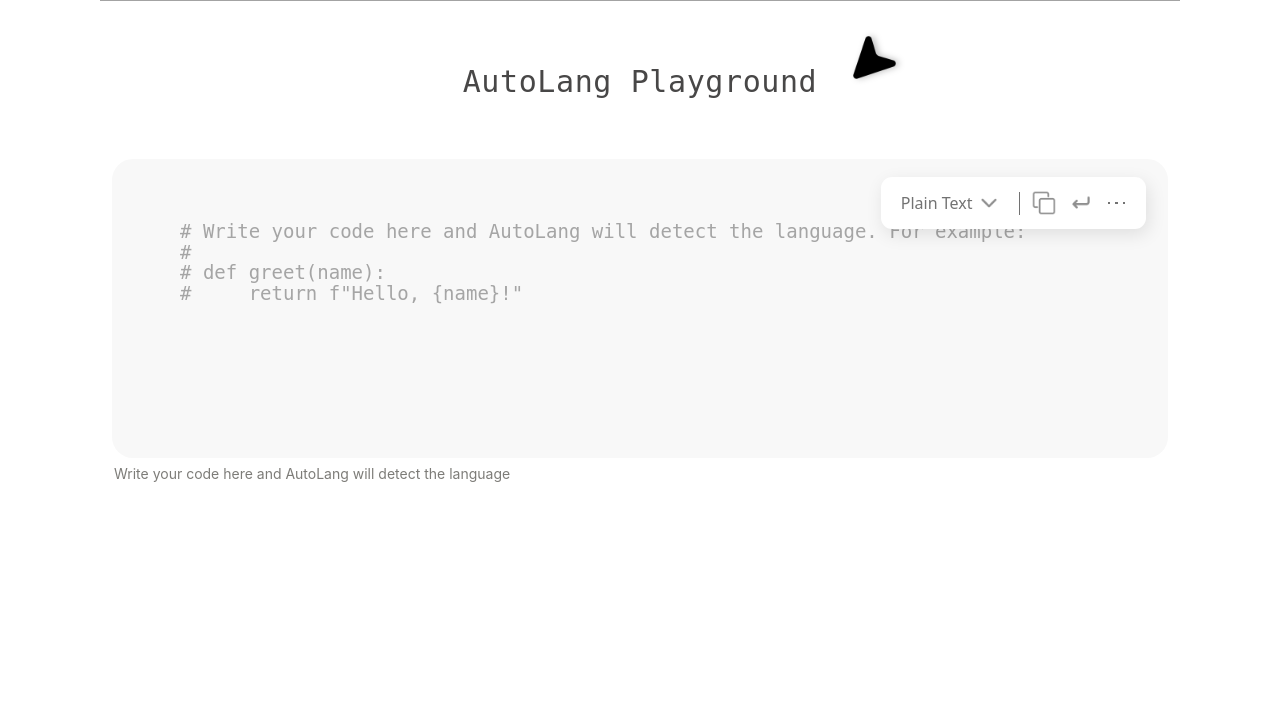
it: Playground language menu › picks the first match with Enter and closes with Escape
Click the button with aria-label "Language:" at (951, 203), box [895,187,1008,219]
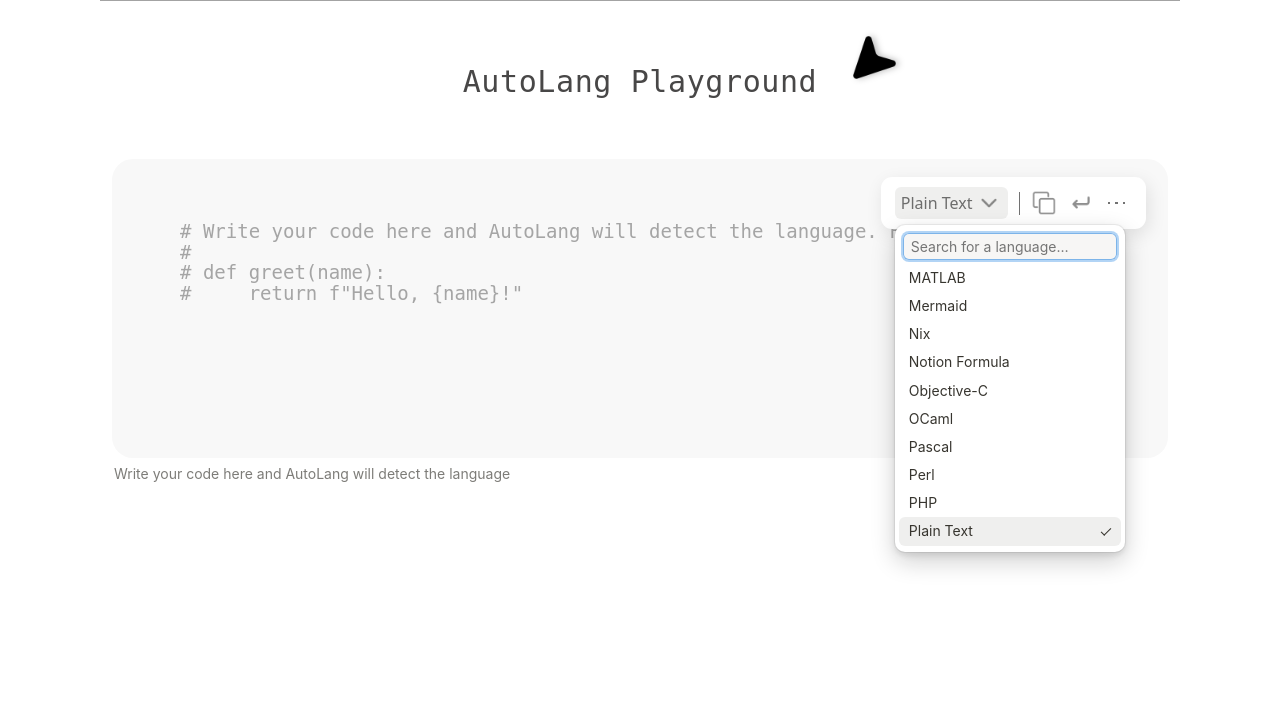
Type "rust" into the search field named "search languages" at (1010, 246), box [903,233,1117,260]
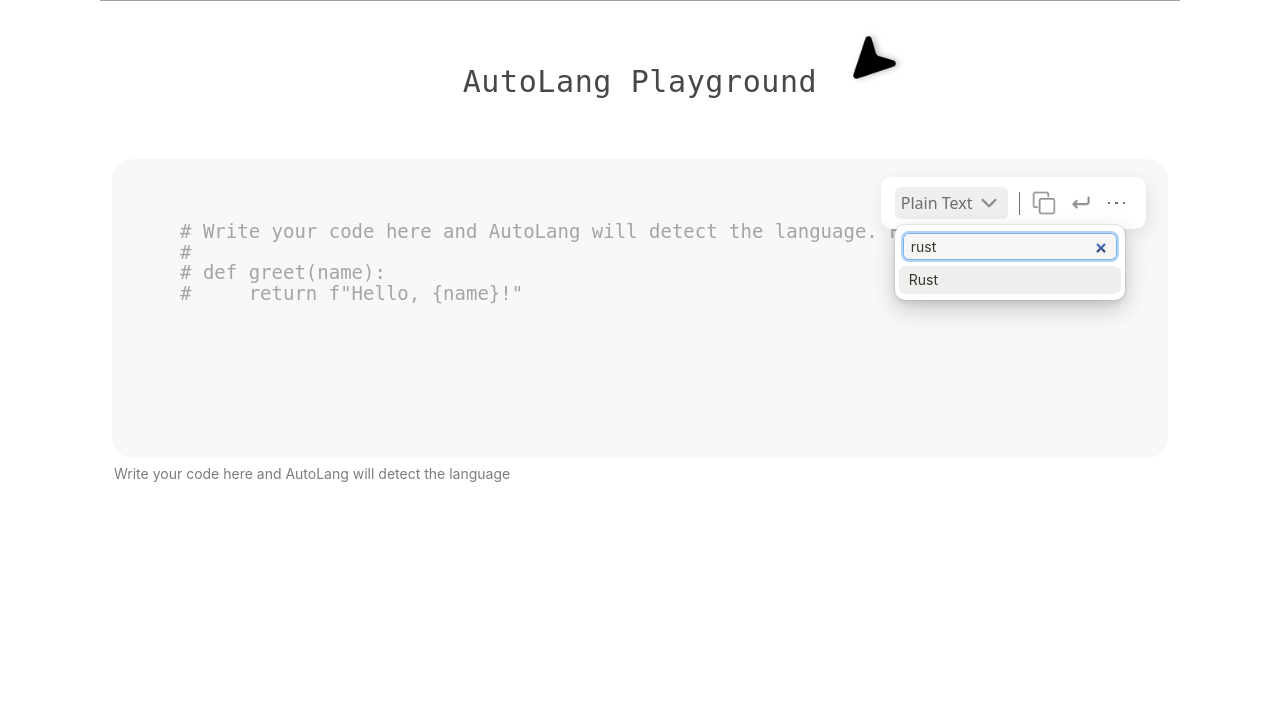
Press Enter in the search field named "search languages", box [903,233,1117,260]
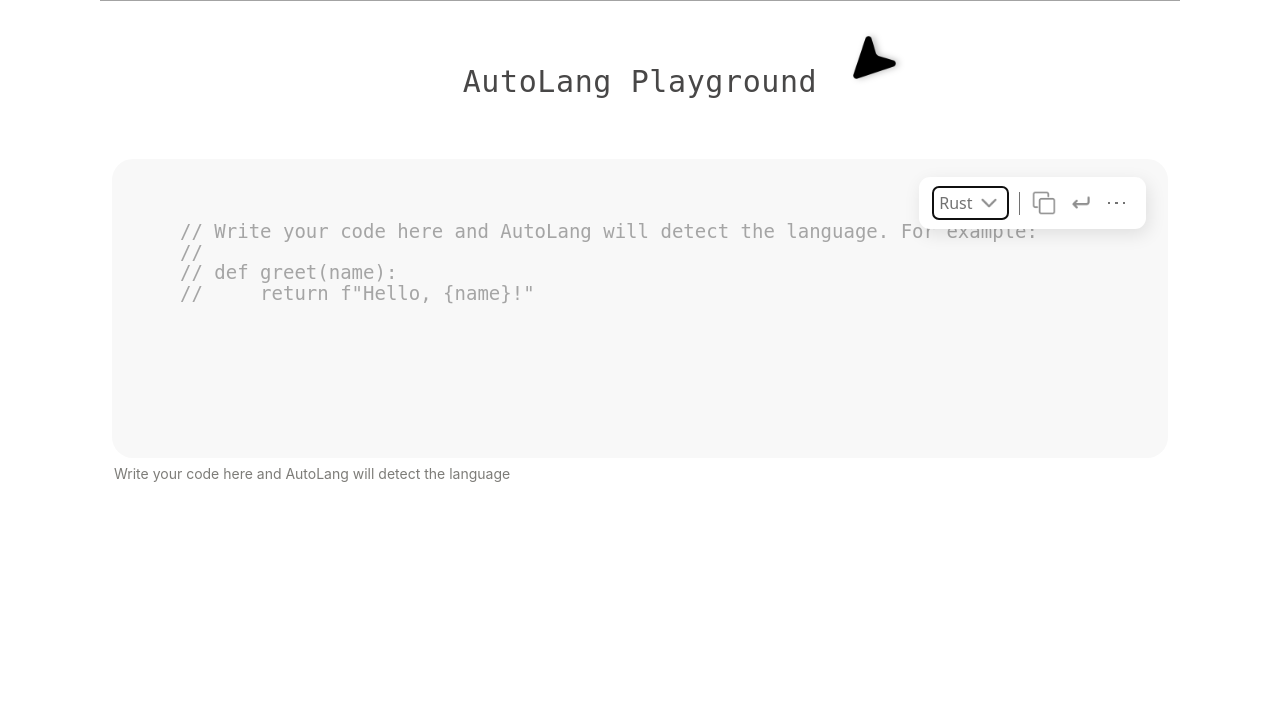
Now the button with aria-label "Language:" reads "Rust"
Click the button with aria-label "Language:" at (970, 203), box [933,187,1008,219]
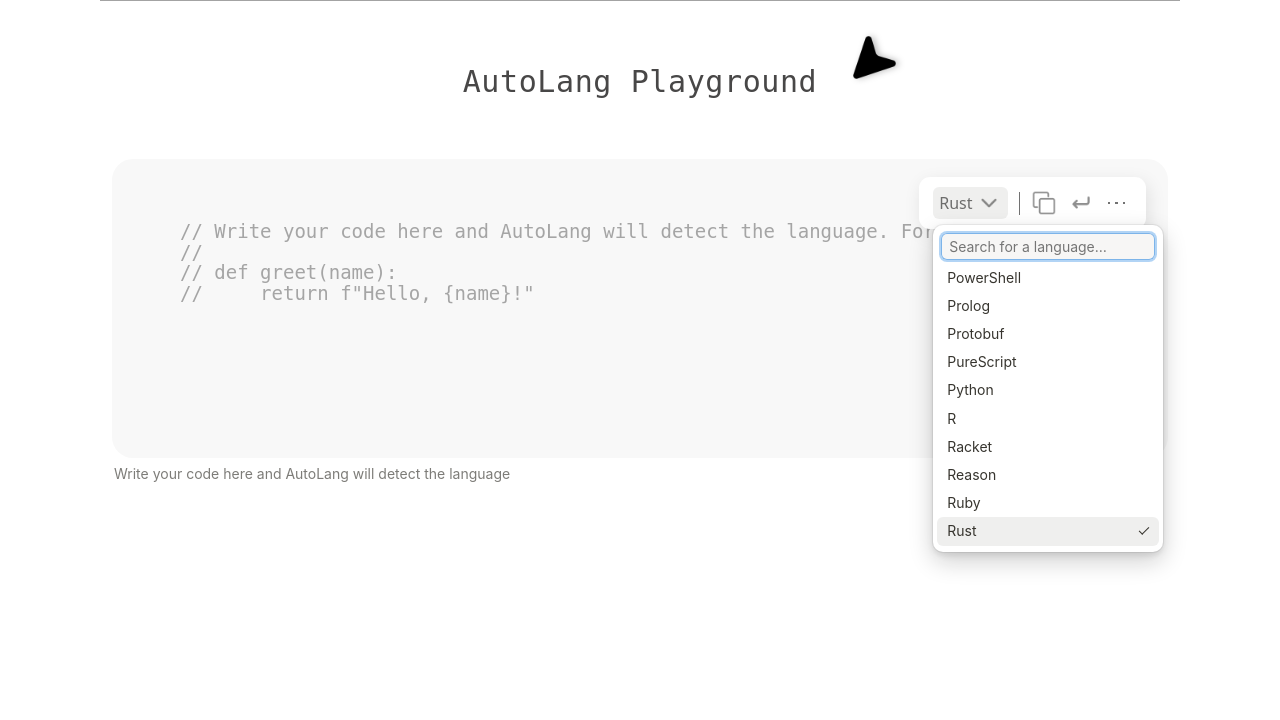
Press Escape in the search field named "search languages", box [941,233,1155,260]
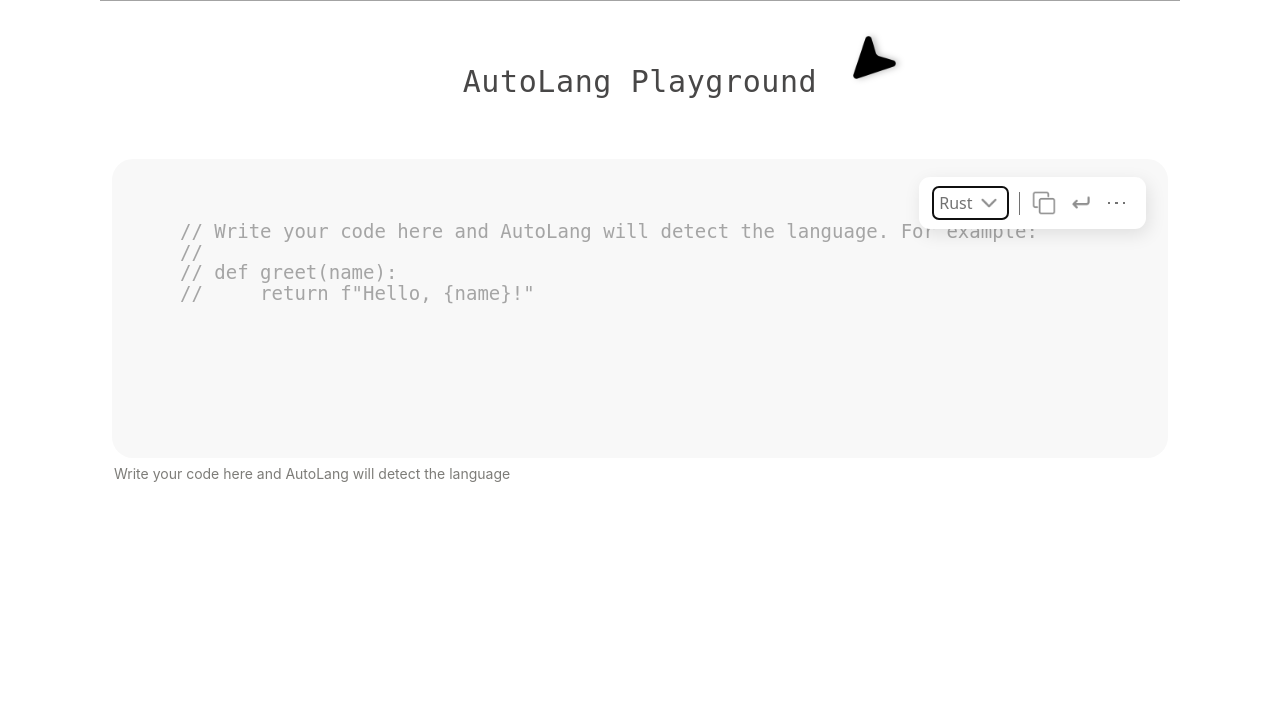
Now the button with aria-label "Language:" reads "Rust", box [933,187,1008,219]
Now the list is gone
